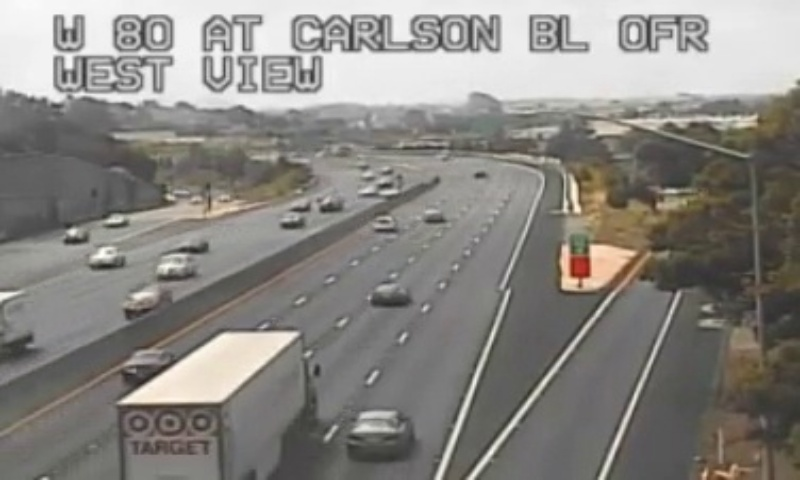car: (346, 409, 412, 460), (123, 348, 174, 382), (372, 283, 410, 306), (370, 216, 395, 232)
truck: (114, 330, 317, 480)
